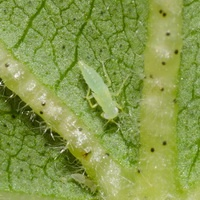insect: (0, 0, 199, 199), (76, 58, 123, 130)
